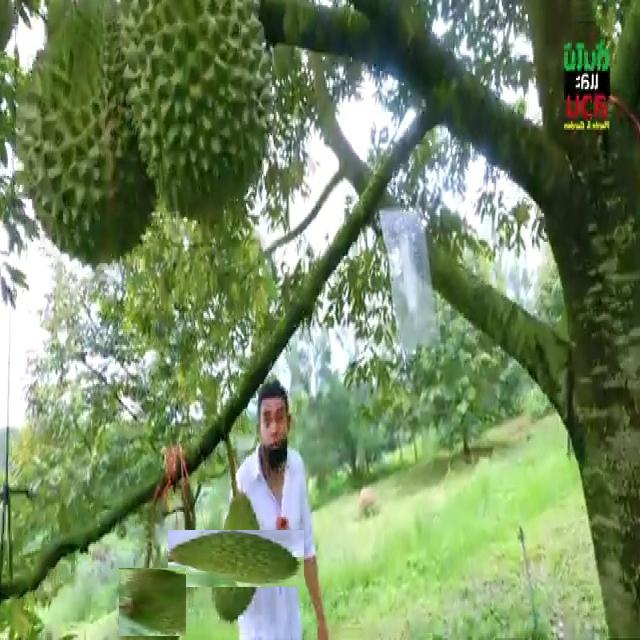durian: (11, 6, 170, 273), (112, 0, 282, 222), (188, 510, 285, 607), (118, 568, 186, 636)
